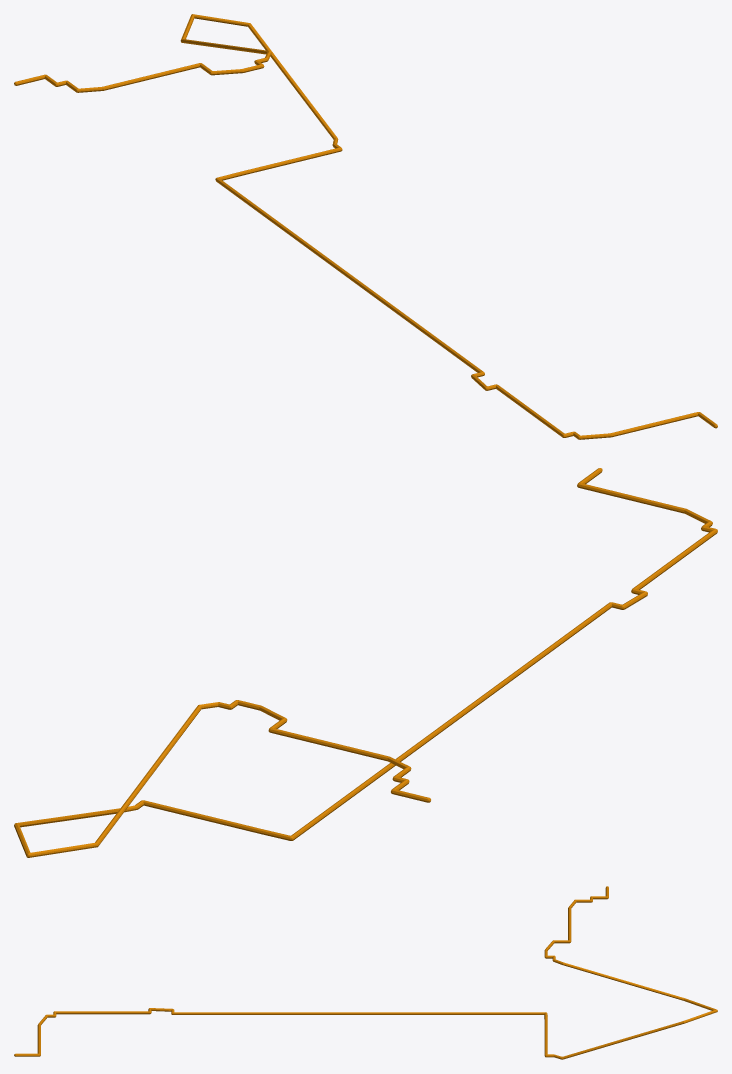
3 renders of one model, top to bottom at view 1: azimuth 30°, elevation 25°; view 2: azimuth 150°, elevation 25°; view 3: azimuth 270°, elevation 25°, orthographic. The views are drawn at different scales.
Bounding box in the file's own units: 1492 × 520 × 4435.
